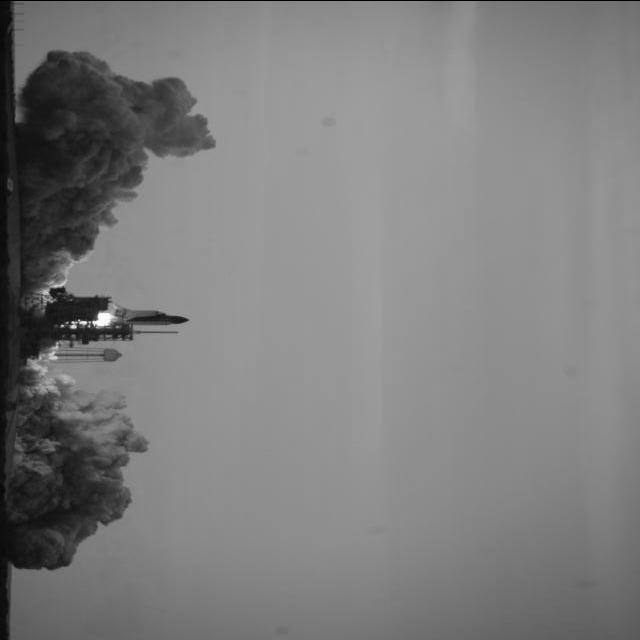missile: (115, 314, 192, 324)
